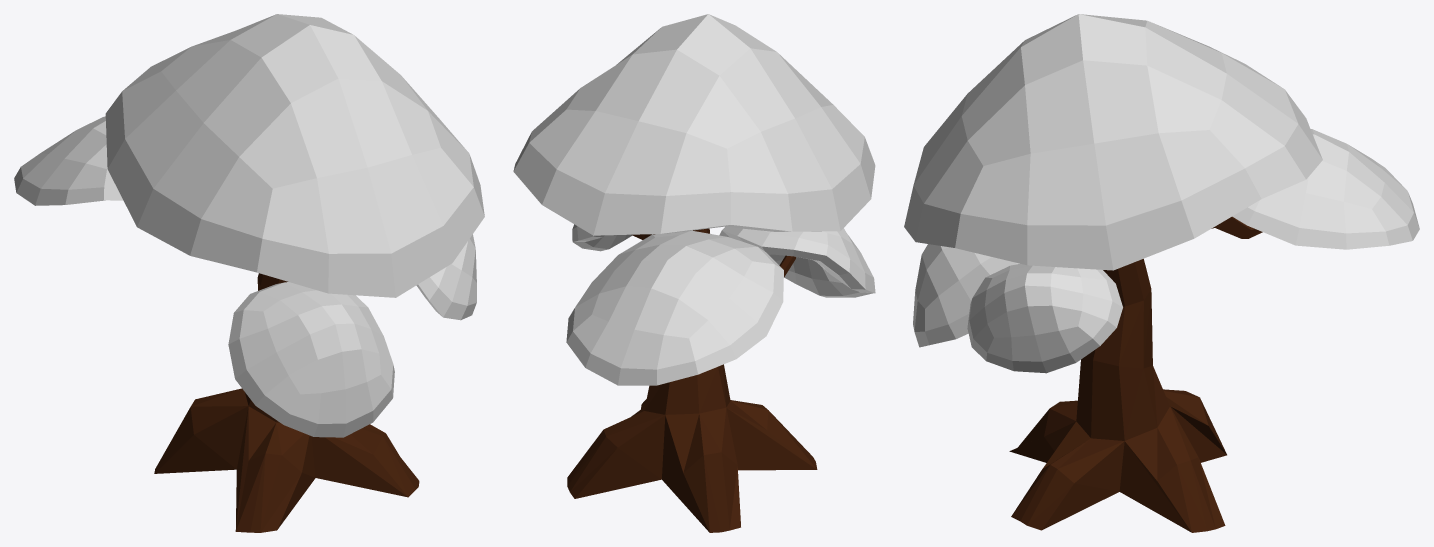
Rendered from Tree1.FBX.
The picture shows the model from 3 angles, left to right: view 1: azimuth 30°, elevation 25°; view 2: azimuth 150°, elevation 25°; view 3: azimuth 270°, elevation 25°; orthographic projection. The views are drawn at different scales.
Parts seen in each view (by area): view 1: Box004, Cylinder015; view 2: Box004, Cylinder015; view 3: Box004, Cylinder015.
Part boxes in pixels (<box>): Box004: <box>14,14,484,437</box>; Cylinder015: <box>154,273,419,532</box>; Box004: <box>513,14,875,385</box>; Cylinder015: <box>567,228,817,532</box>; Box004: <box>904,14,1419,373</box>; Cylinder015: <box>1009,216,1262,532</box>.
Bounding box in the file's own units: 162 × 226 × 221.
